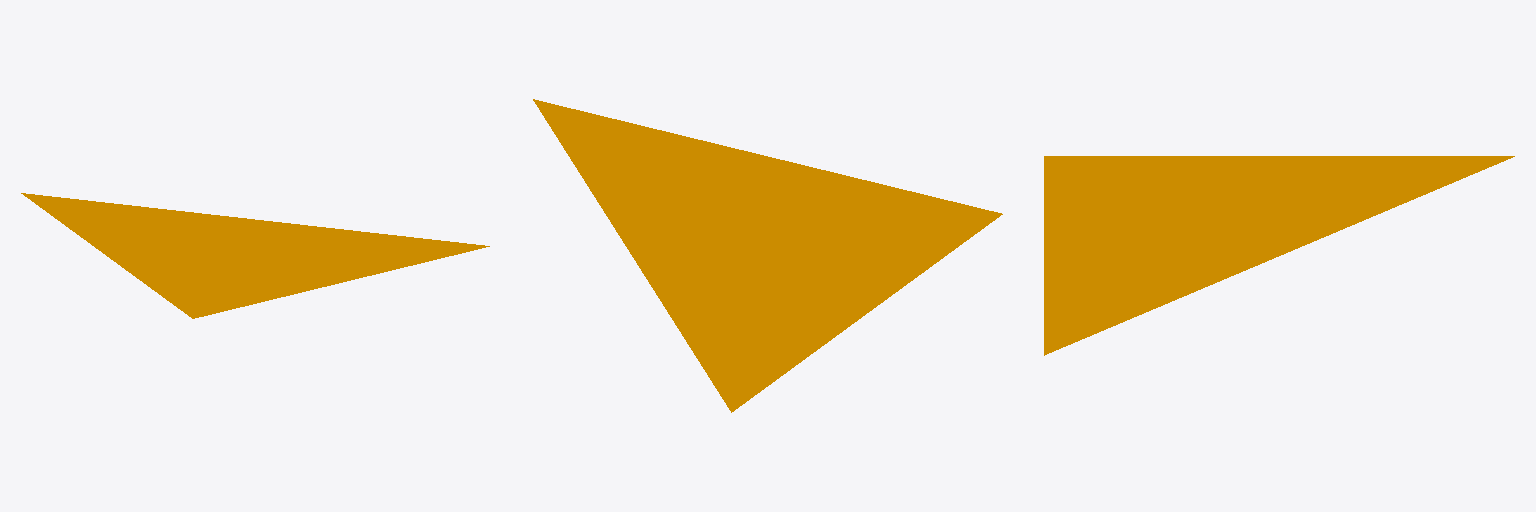
robot.urdf — part_a:
<?xml version='1.0' encoding='utf-8'?>
<robot name="part_a">
  <link name="part_a">
    <collision>
      <geometry>
        <mesh filename="../test_meshes/part_a.stl" scale="0.001 0.001 0.001" />
      </geometry>
    </collision>
    <visual>
      <geometry>
        <mesh filename="../test_meshes/part_a.stl" scale="0.001 0.001 0.001" />
      </geometry>
    </visual>
    <inertial>
      <mass value="1.0" />
      <inertia ixx="0.01" ixy="0" ixz="0" iyy="0.01" iyz="0" izz="0.01" />
    </inertial>
  </link>
</robot>

--- Render facts (derived) ---
The picture shows the robot from 3 angles, left to right: view 1: azimuth 30°, elevation 25°; view 2: azimuth 150°, elevation 25°; view 3: azimuth 270°, elevation 25°; orthographic projection.
Robot: part_a — 1 links, 0 joints (none); root link part_a; default pose: all joints at 0.
Visible links, largest first — view 1: part_a; view 2: part_a; view 3: part_a.
Boxes of the visible links, <box> form: part_a: <box>21,193,489,318</box>; part_a: <box>533,99,1002,412</box>; part_a: <box>1044,156,1514,355</box>.
Bounding box of the posed robot: 0.001 × 0.001 × 0 m (x, y, z).
Meshes: 1 distinct files referenced, 1 mesh visuals loaded (1 ASCII STL).
